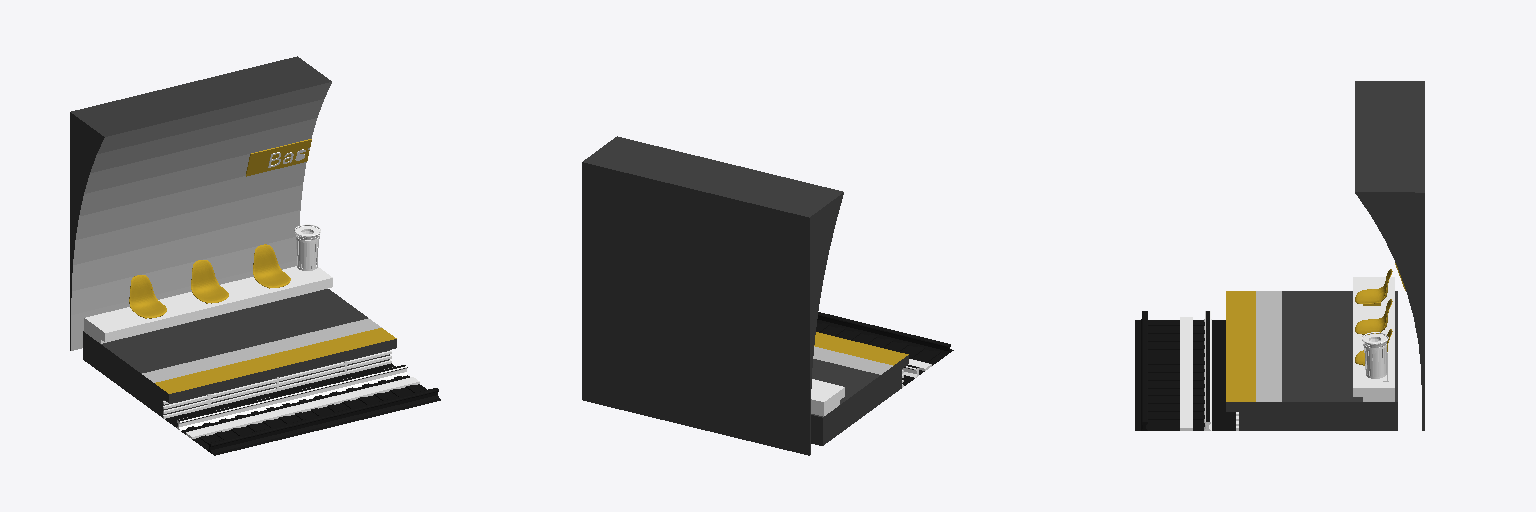
File: scene_orelsan.obj
The picture shows the model from 3 angles: view 1: azimuth 30°, elevation 25°; view 2: azimuth 150°, elevation 25°; view 3: azimuth 270°, elevation 25°; orthographic projection.
Visible parts, largest first — view 1: Mur, Base_quai, Cube_1, Plane, Rail_2, Rail_1, Bande_seule, Bandes, Mur.3, Chaise.1, Chaise.1_1, Chaise (+4 smaller); view 2: Mur, Base_quai, Rail_2, Cube_1, Plane, Bandes; view 3: Base_quai, Mur, Plane, Cube_1, Bandes, Bande_seule, polySurface2, Rail_1, Rail_2, Chaise.
Part boxes in pixels (x1,y1,x2,y2): Mur: (70,56,331,350); Base_quai: (83,289,396,417); Cube_1: (84,266,332,343); Plane: (165,363,440,455); Rail_2: (208,388,438,453); Rail_1: (177,365,407,430); Bande_seule: (186,377,419,438); Bandes: (187,376,420,443); Mur.3: (246,139,311,176); Chaise.1: (253,244,290,288); Chaise.1_1: (191,260,228,303); Chaise: (129,275,166,318); Mur: (582,136,843,455); Base_quai: (811,332,908,445); Rail_2: (817,312,950,354); Cube_1: (811,379,844,416); Plane: (816,323,953,385); Bandes: (816,323,940,362); Base_quai: (1226,291,1397,430); Mur: (1355,81,1424,430); Plane: (1135,320,1235,430); Cube_1: (1353,277,1394,401); Bandes: (1148,322,1204,426); Bande_seule: (1180,317,1192,430); polySurface2: (1362,332,1388,378); Rail_1: (1204,311,1211,430); Rail_2: (1141,311,1148,430); Chaise: (1355,269,1392,305).
Bounding box in the file's own units: 500 × 500 × 550.